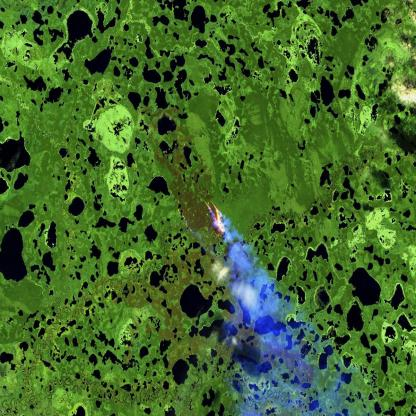fire: (172, 190, 230, 247)
